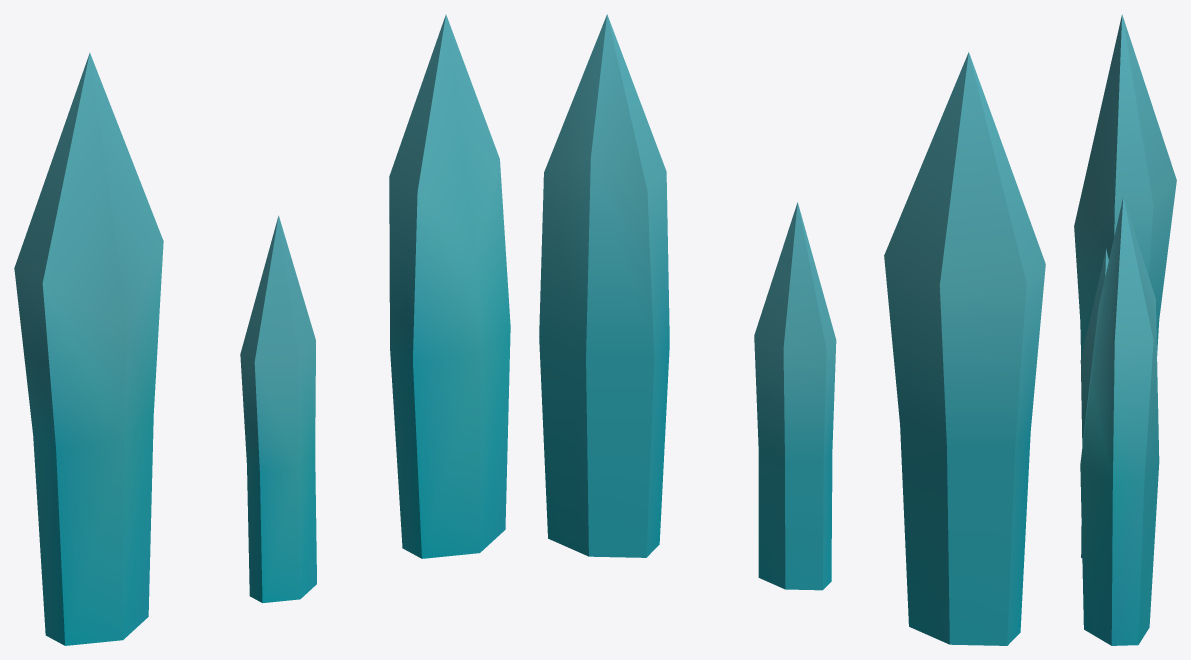
Rendered from Ice_wave.fbx.
3 views of the same model, side by side, from view 1: azimuth 30°, elevation 25°; view 2: azimuth 150°, elevation 25°; view 3: azimuth 270°, elevation 25° (orthographic). The views are drawn at different scales.
Parts seen in each view (by area): view 1: Ice_waveV3, Ice_waveV1, Ice_wave.V2; view 2: Ice_waveV3, Ice_waveV1, Ice_wave.V2; view 3: Ice_waveV1, Ice_waveV3, Ice_wave.V2.
Boxes of the visible parts, <box> form: Ice_waveV3: <box>14,52,163,645</box>; Ice_waveV1: <box>389,14,510,558</box>; Ice_wave.V2: <box>240,215,316,603</box>; Ice_waveV3: <box>884,52,1045,645</box>; Ice_waveV1: <box>539,14,669,557</box>; Ice_wave.V2: <box>754,202,836,590</box>; Ice_waveV1: <box>1080,197,1159,645</box>; Ice_waveV3: <box>1074,14,1176,357</box>; Ice_wave.V2: <box>1080,249,1108,557</box>.
Size of the model in its own units: 154 by 176 by 34.84.
